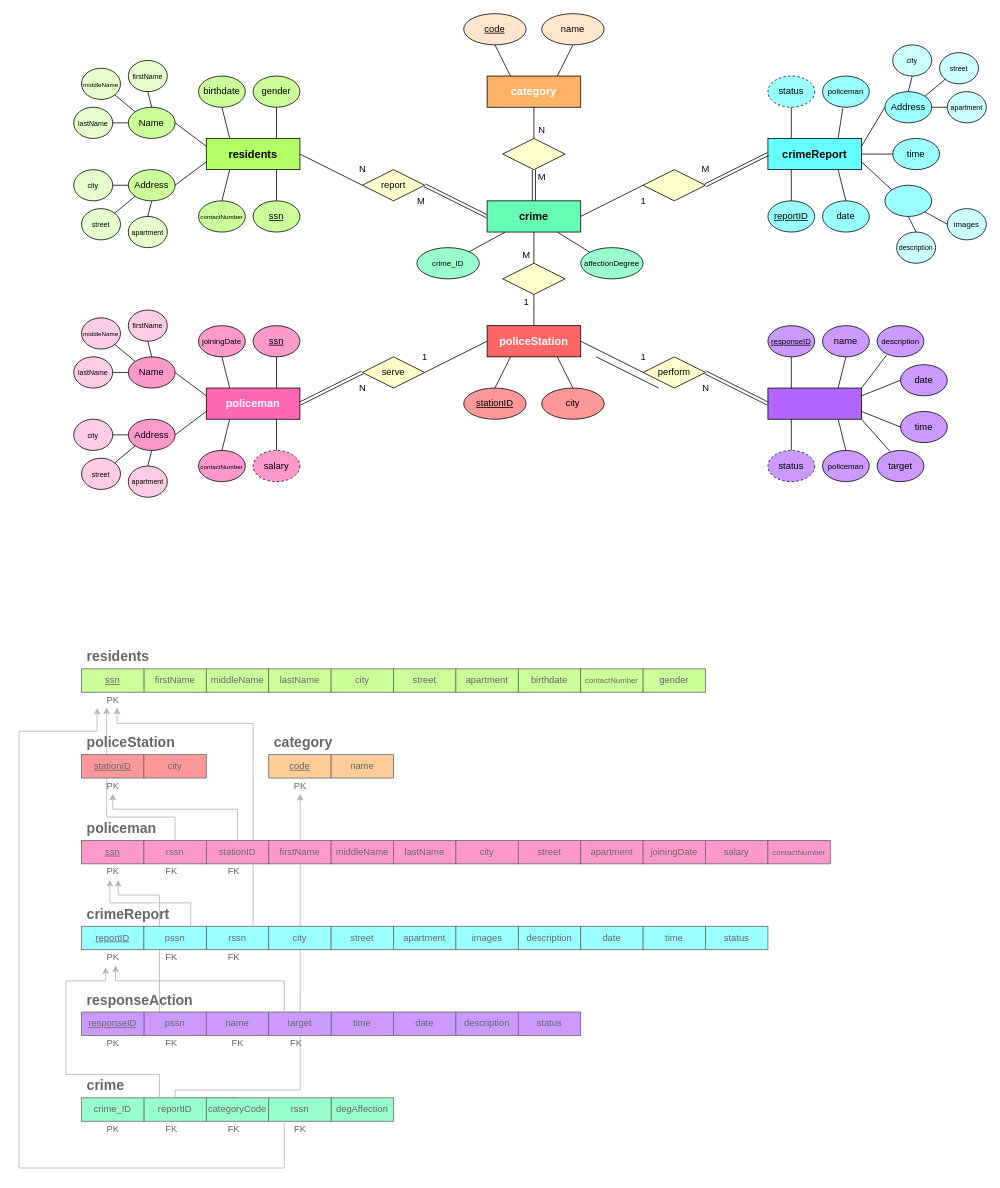
The diagram is 1000 pixels wide and 1188 high, and some of its shapes have lost their labels. The shapes that lost their labels are listed below. From the top down, each one's centre as x and y in pixels, then its label:
the point at 533,154: belong
the point at 674,185: has
the point at 908,200: more info
the point at 533,278: direct
the point at 814,403: reponseAction
